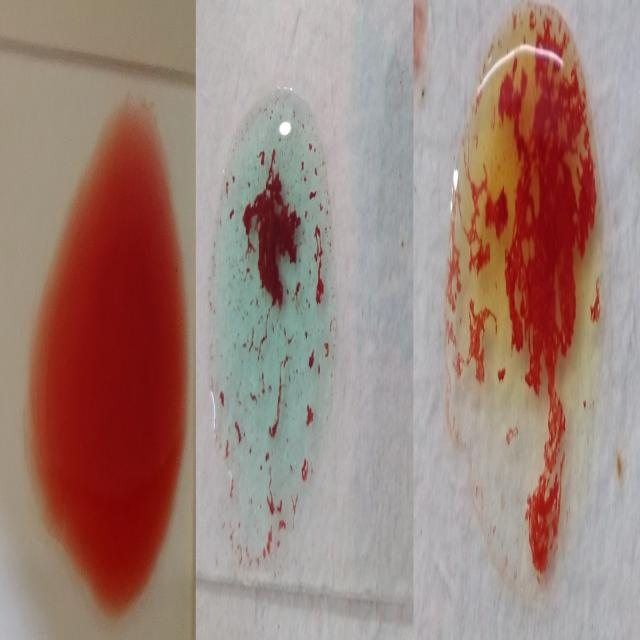A: (217, 88, 330, 584)
B: (451, 4, 605, 593)
